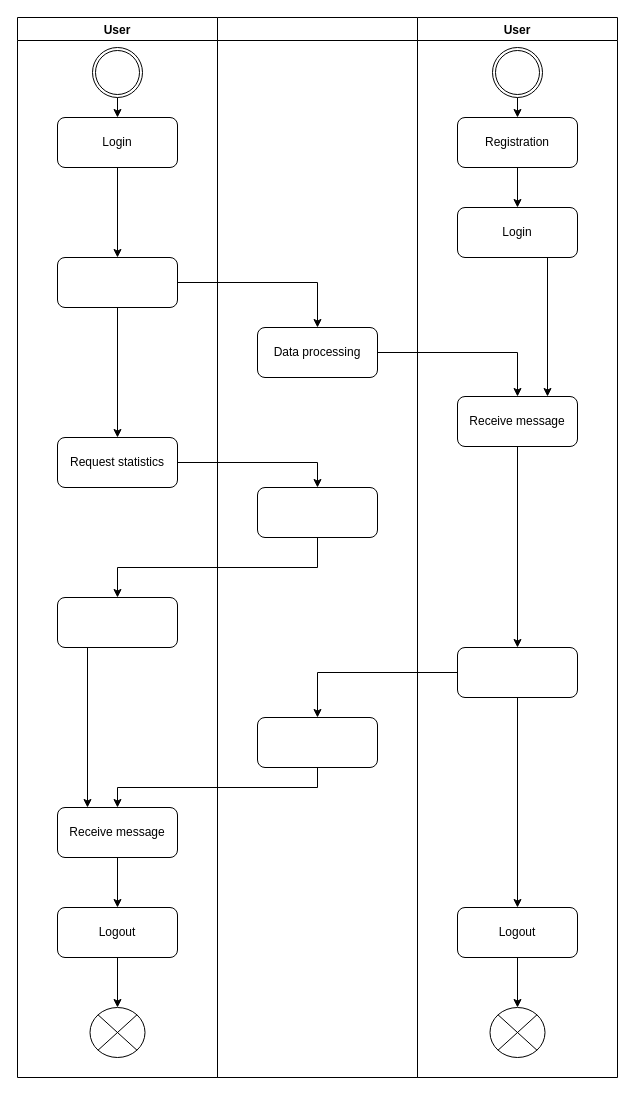
Image size: 635x1095. Some labels were removed from this diagram. The box of each missing label's shape, as (x1, y1, x2, y2) in pixels:
Compute statistics: (256, 486, 378, 538)
Send message: (56, 256, 178, 308)
Send voice message: (456, 646, 578, 698)
Server: (216, 16, 418, 1078)
Speech recognition and text conversion: (256, 716, 378, 768)
View statistics: (56, 596, 178, 648)
